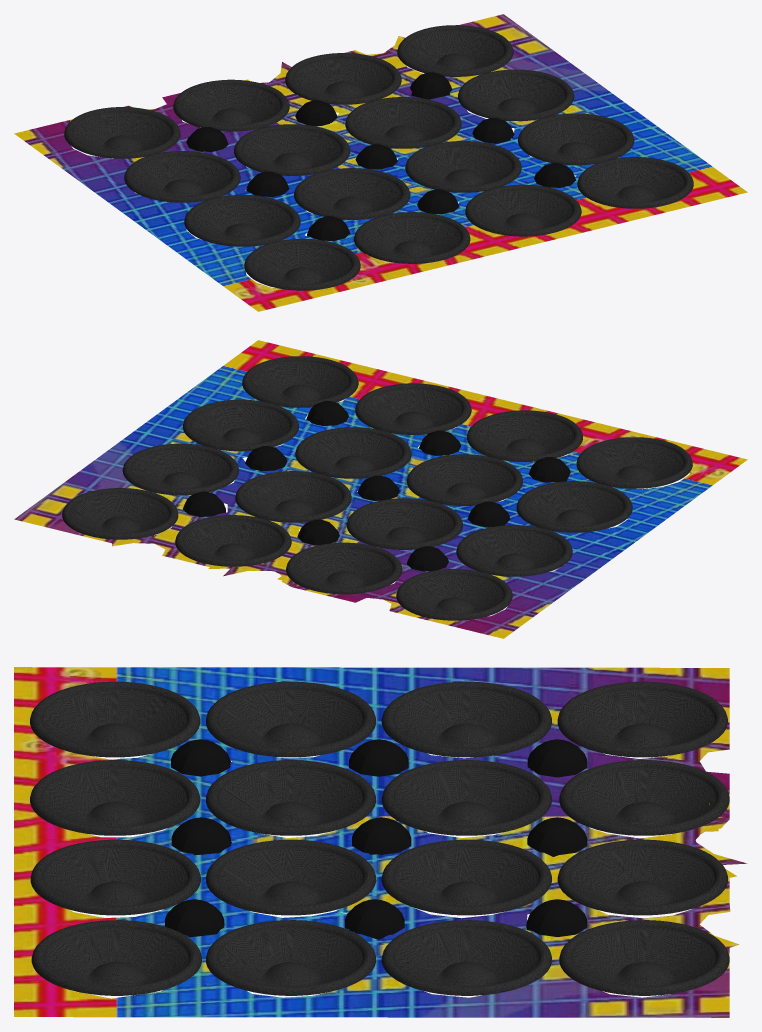
The model's file is saveiro_som.glb.
3 renders of one model, top to bottom at view 1: azimuth 30°, elevation 25°; view 2: azimuth 150°, elevation 25°; view 3: azimuth 270°, elevation 25°, orthographic. The views are drawn at different scales.
Parts seen in each view (by area): view 1: flt_xtrpng|ffffff_q, sompng|cccccc_q, preto%20foscopng|9c9c9c_q; view 2: flt_xtrpng|ffffff_q, sompng|cccccc_q, preto%20foscopng|9c9c9c_q; view 3: flt_xtrpng|ffffff_q, sompng|cccccc_q, preto%20foscopng|9c9c9c_q.
Boxes of the visible parts, box(x1,y1,x2,y2) form: flt_xtrpng|ffffff_q: box(64, 25, 693, 290); sompng|cccccc_q: box(14, 14, 747, 311); preto%20foscopng|9c9c9c_q: box(186, 72, 575, 241); flt_xtrpng|ffffff_q: box(62, 356, 692, 620); sompng|cccccc_q: box(14, 340, 747, 638); preto%20foscopng|9c9c9c_q: box(183, 401, 570, 571); flt_xtrpng|ffffff_q: box(30, 681, 729, 995); sompng|cccccc_q: box(14, 667, 746, 1017); preto%20foscopng|9c9c9c_q: box(165, 739, 587, 939).
Size of the model in its own units: 1.35 by 0.108 by 1.2.
Materials: 3 (2 with a texture image).
